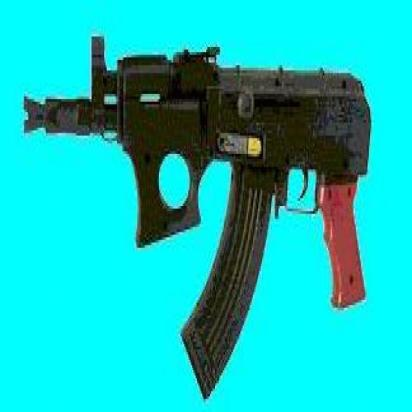Gun: (20, 27, 383, 402)
